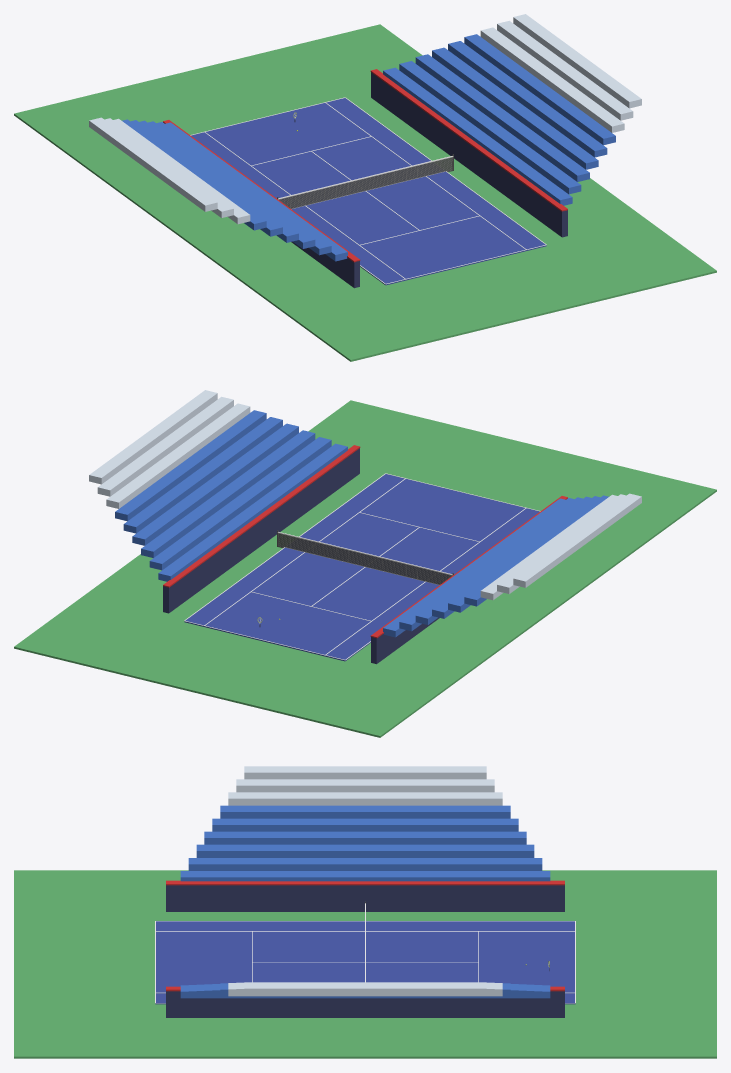
File: tennis_court.glb
3 renders of one model, top to bottom at view 1: azimuth 30°, elevation 25°; view 2: azimuth 150°, elevation 25°; view 3: azimuth 270°, elevation 25°, orthographic. The views are drawn at different scales.
Parts seen in each view (by area): view 1: Ground, CourtBlue, Panel_1, Seat_1_1, Seat_1_2, Seat_1_3, Seat_1_0, Seat_1_4, Seat_1_5, Seat_1_6, Seat_1_7, Seat_1_8 (+12 smaller); view 2: Ground, CourtBlue, Panel_1, Seat_1_1, Seat_1_2, Seat_1_3, Seat_1_0, Seat_1_4, Seat_1_5, Seat_1_6, Seat_1_7, Seat_1_8 (+12 smaller); view 3: Ground, CourtBlue, Panel_-1, Panel_1, Seat_-1_2, Seat_-1_1, Seat_-1_3, Seat_-1_4, Seat_-1_0, Seat_-1_5, Seat_-1_6, Seat_-1_7 (+11 smaller).
Boxes of the visible parts, x1,y1,x2,y2 form: Ground: [14, 24, 716, 361]; CourtBlue: [191, 98, 546, 285]; Panel_1: [371, 72, 567, 237]; Seat_1_1: [399, 61, 581, 194]; Seat_1_2: [415, 54, 589, 181]; Seat_1_3: [432, 47, 598, 169]; Seat_1_0: [383, 67, 572, 205]; Seat_1_4: [448, 41, 607, 157]; Seat_1_5: [464, 34, 615, 145]; Seat_1_6: [480, 27, 624, 132]; Seat_1_7: [497, 20, 633, 120]; Seat_1_8: [513, 14, 641, 108]; Ground: [14, 400, 716, 737]; CourtBlue: [184, 474, 539, 661]; Panel_1: [163, 448, 359, 613]; Seat_1_1: [149, 437, 331, 570]; Seat_1_2: [141, 430, 315, 557]; Seat_1_3: [132, 423, 298, 545]; Seat_1_0: [158, 443, 347, 581]; Seat_1_4: [123, 417, 282, 533]; Seat_1_5: [115, 410, 266, 521]; Seat_1_6: [106, 403, 250, 508]; Seat_1_7: [97, 396, 233, 496]; Seat_1_8: [89, 390, 217, 484]; Ground: [14, 870, 716, 1058]; CourtBlue: [155, 921, 575, 1004]; Panel_-1: [166, 885, 564, 911]; Panel_1: [166, 991, 564, 1017]; Seat_-1_2: [196, 844, 534, 857]; Seat_-1_1: [188, 858, 542, 870]; Seat_-1_3: [204, 831, 526, 844]; Seat_-1_4: [212, 818, 518, 831]; Seat_-1_0: [180, 871, 550, 881]; Seat_-1_5: [220, 805, 510, 818]; Seat_-1_6: [228, 792, 502, 805]; Seat_-1_7: [236, 779, 494, 792].
Bounding box in the file's own units: 29.77 × 5.49 × 39.77.
